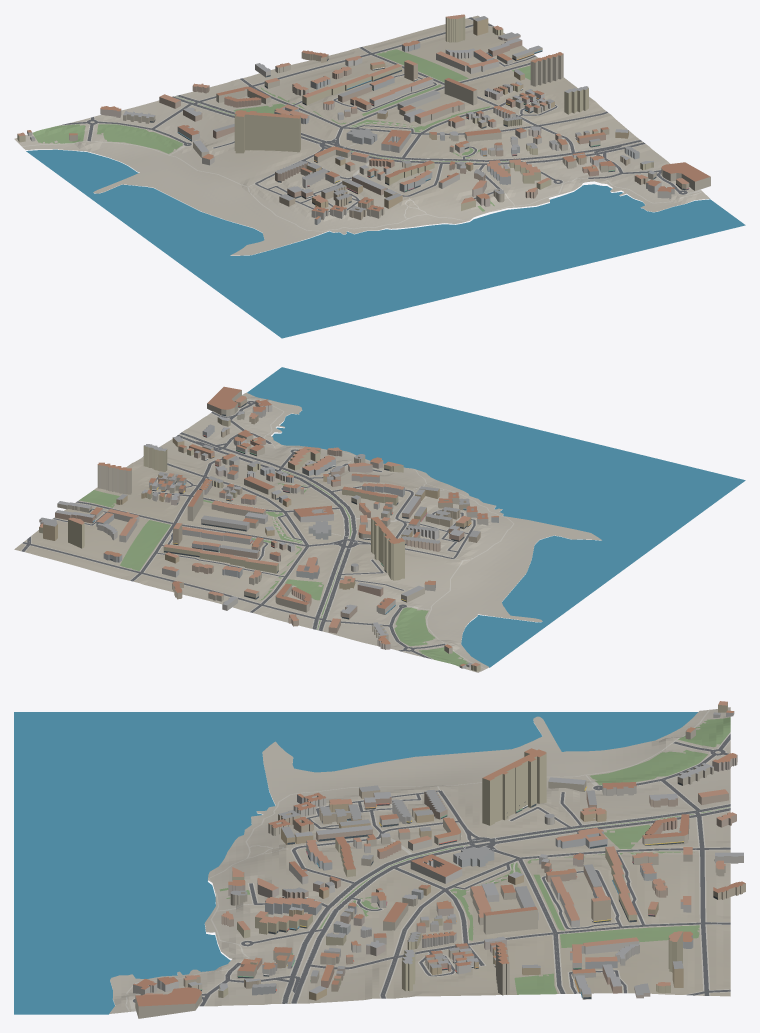
The picture shows the model from 3 angles, top to bottom: view 1: azimuth 30°, elevation 25°; view 2: azimuth 150°, elevation 25°; view 3: azimuth 270°, elevation 25°; orthographic projection. The views are drawn at different scales.
Visible parts, largest first — view 1: Ground, Water, Walls, Roofs, Sidewalk, Road, Park, Detail; view 2: Water, Ground, Walls, Roofs, Road, Sidewalk, Park, Detail; view 3: Water, Ground, Walls, Roofs, Road, Sidewalk, Park, Detail.
Boxes of the visible parts, x1,y1,x2,y2 form: Ground: (14,15,709,255); Water: (26,149,745,338); Walls: (17,16,710,224); Roofs: (17,14,710,219); Sidewalk: (22,17,702,231); Road: (61,17,687,211); Park: (32,49,530,211); Detail: (150,50,689,206); Water: (247,367,745,667); Ground: (14,392,601,672); Walls: (39,390,498,671); Roofs: (39,386,498,666); Road: (21,401,475,659); Sidewalk: (21,397,514,669); Park: (79,470,468,666); Detail: (89,403,471,619); Water: (14,712,697,1014); Ground: (109,707,730,1013); Walls: (133,702,745,1018); Roofs: (133,701,745,1006); Road: (133,734,730,1006); Sidewalk: (125,709,730,1011); Park: (219,717,730,994); Detail: (200,782,717,999).
Bounding box in the file's own units: 1025 × 92.02 × 1022.
